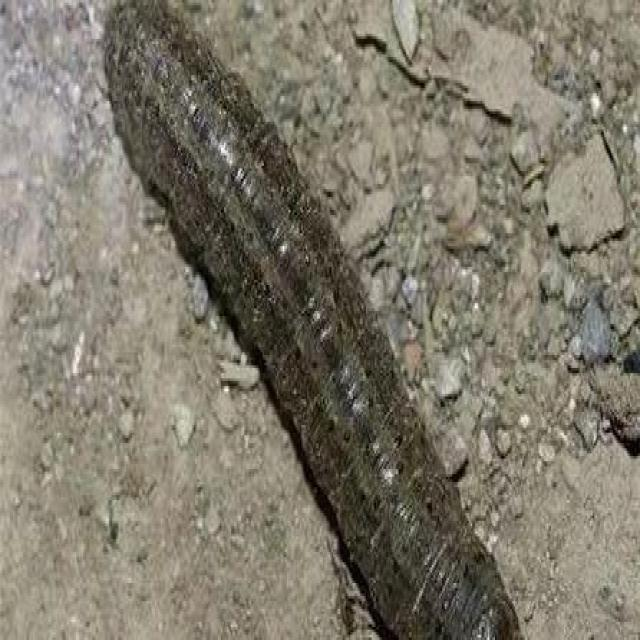black cutworm: (98, 1, 527, 636)
